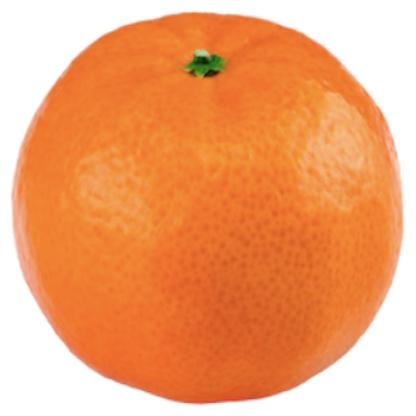fresh: (27, 19, 403, 404)
